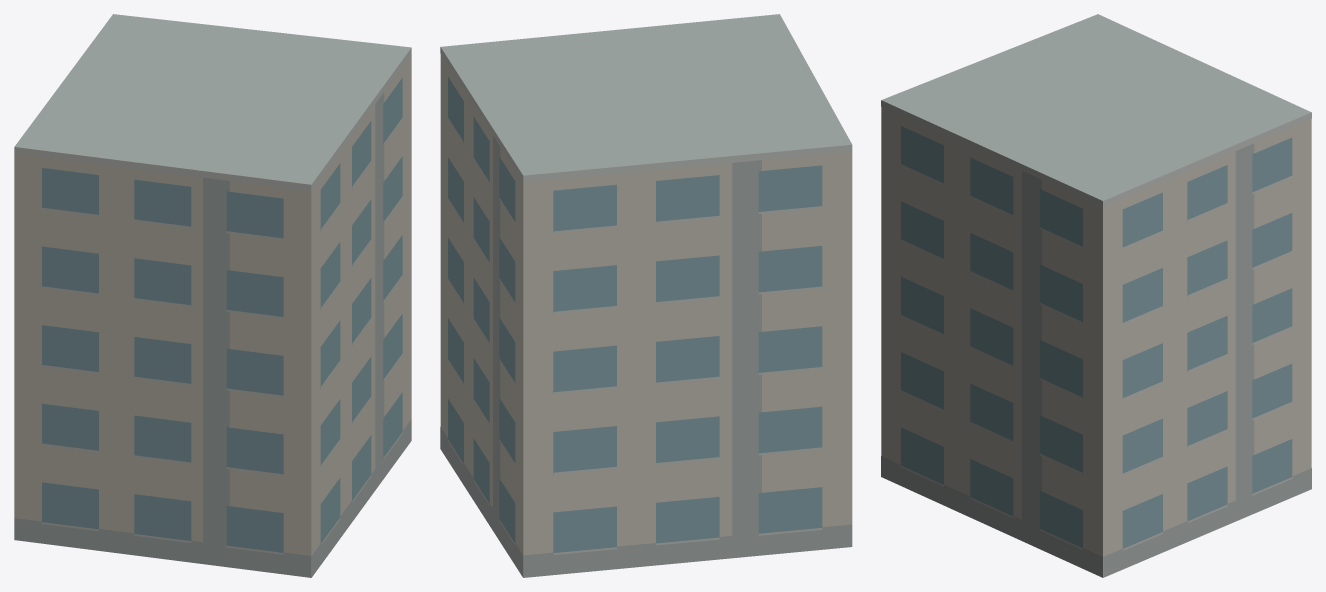
The model's file is survey-upis-32686914.glb.
3 renders of one model, left to right at view 1: azimuth 30°, elevation 25°; view 2: azimuth 150°, elevation 25°; view 3: azimuth 270°, elevation 25°, orthographic. The views are drawn at different scales.
Visible parts, largest first — view 1: survey-upis-32686914.tmp; view 2: survey-upis-32686914.tmp; view 3: survey-upis-32686914.tmp.
Boxes of the visible parts, x1,y1,x2,y2 form: survey-upis-32686914.tmp: [14, 14, 411, 577]; survey-upis-32686914.tmp: [440, 14, 852, 577]; survey-upis-32686914.tmp: [881, 14, 1311, 577].
Size of the model in its own units: 15.29 by 14.35 by 14.87.
